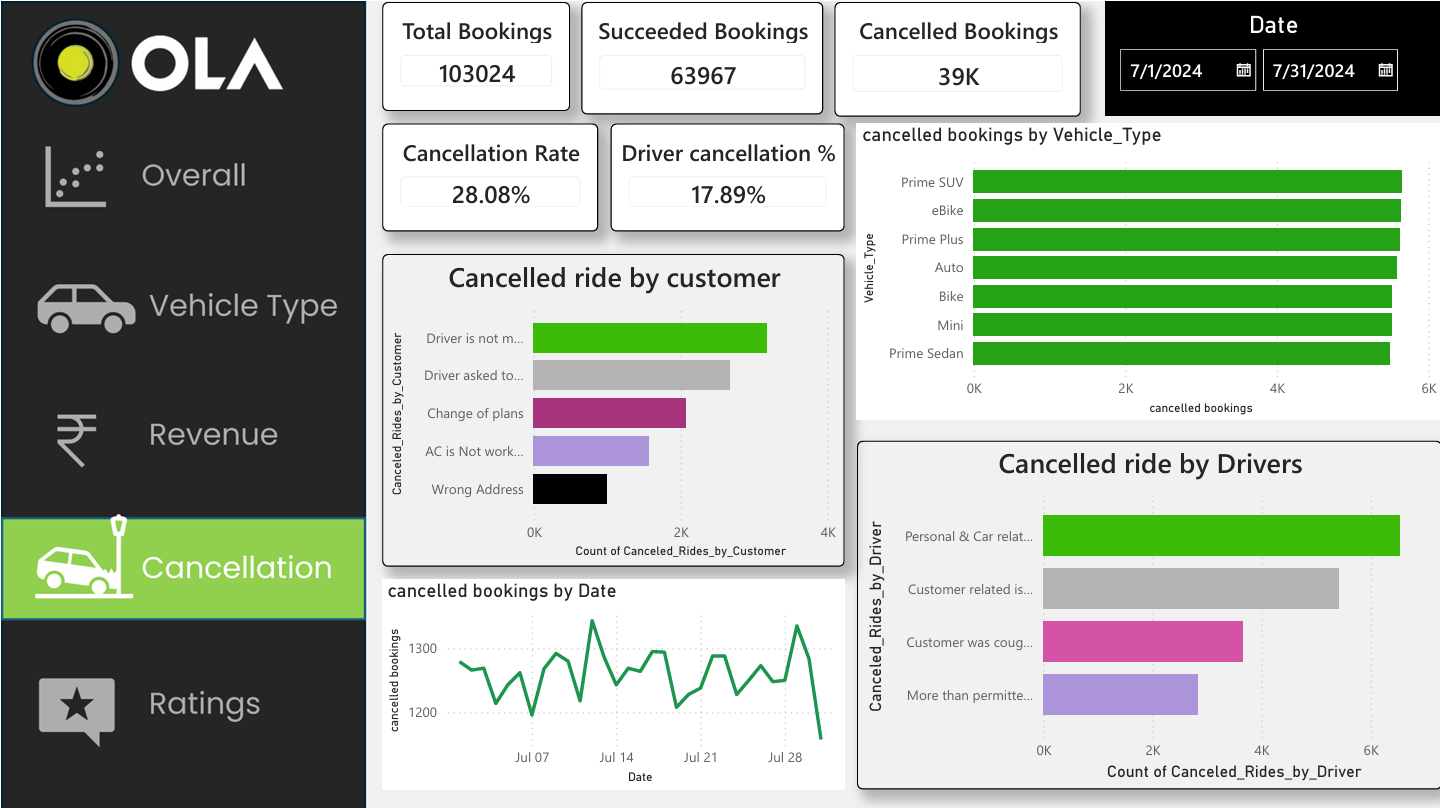

The page's visual inventory and layout, read from the dashboard file:
{"tool":"powerbi","page":{"name":"Cancellation","canvas":[1280,720],"ordinal":3},"visuals":[{"type":"actionButton","box":[0,108.4,323.8,91.9],"z":0},{"type":"actionButton","box":[0,588.7,323.8,91.9],"z":1000},{"type":"actionButton","box":[0,223.7,323.8,91.9],"z":2000},{"type":"actionButton","box":[0,343.1,323.8,91.9],"z":3000},{"type":"barChart","title":"Cancelled ride by customer","fields":{"Category":["July.Canceled_Rides_by_Customer"],"Y":["CountNonNull(July.Canceled_Rides_by_Customer)"]},"box":[337.6,223.7,411.7,278.6],"z":4000},{"type":"barChart","title":"Cancelled ride by Drivers","fields":{"Category":["July.Canceled_Rides_by_Driver"],"Y":["CountNonNull(July.Canceled_Rides_by_Driver)"]},"box":[760.2,389.7,520.1,310.1],"z":5000},{"type":"slicer","title":"Date","fields":{"Values":["July.Date"]},"box":[981.1,0,299.1,101.5],"z":6000},{"type":"cardVisual","title":"Total Bookings","fields":{"Data":["CountNonNull(July.Booking_ID)"]},"box":[337.6,0,167.4,97.4],"z":7000},{"type":"cardVisual","title":"Succeeded Bookings","fields":{"Data":["CountNonNull(July.Booking_ID)"]},"box":[514.6,0,215.4,100.2],"z":8000},{"type":"cardVisual","title":"Cancelled Bookings","fields":{"Data":["July.cancelled bookings"]},"box":[739.6,0,219.6,101.5],"z":9000},{"type":"cardVisual","title":"Cancellation Rate","fields":{"Data":["July.CANCELLATION RATE"]},"box":[337.6,108.4,192.1,96.1],"z":10000},{"type":"cardVisual","title":"Driver cancellation %","fields":{"Data":["July.driver calcellation rate%"]},"box":[540.7,108.4,208.6,96.1],"z":11000},{"type":"barChart","fields":{"Category":["July.Vehicle_Type"],"Y":["July.cancelled bookings"]},"box":[760.2,108.4,520.1,263.5],"z":12000},{"type":"lineChart","fields":{"Category":["July.Date"],"Y":["July.cancelled bookings"]},"box":[337.6,513.2,411.7,186.6],"z":13000}]}

Visuals, with their boxes in screenshot pixels (x1, y1, x2, y2), scaled from the page's 1280x720 canvas onto the 1440x808 screenshot:
actionButton: 0:122:364:225
actionButton: 0:661:364:764
actionButton: 0:251:364:354
actionButton: 0:385:364:488
"Cancelled ride by customer" barChart: 380:251:843:564
"Cancelled ride by Drivers" barChart: 855:437:1439:785
"Date" slicer: 1104:0:1439:114
"Total Bookings" cardVisual: 380:0:568:109
"Succeeded Bookings" cardVisual: 579:0:821:112
"Cancelled Bookings" cardVisual: 832:0:1079:114
"Cancellation Rate" cardVisual: 380:122:596:229
"Driver cancellation %" cardVisual: 608:122:843:229
barChart - July.Vehicle_Type x July.cancelled bookings: 855:122:1439:417
lineChart - July.Date x July.cancelled bookings: 380:576:843:785
